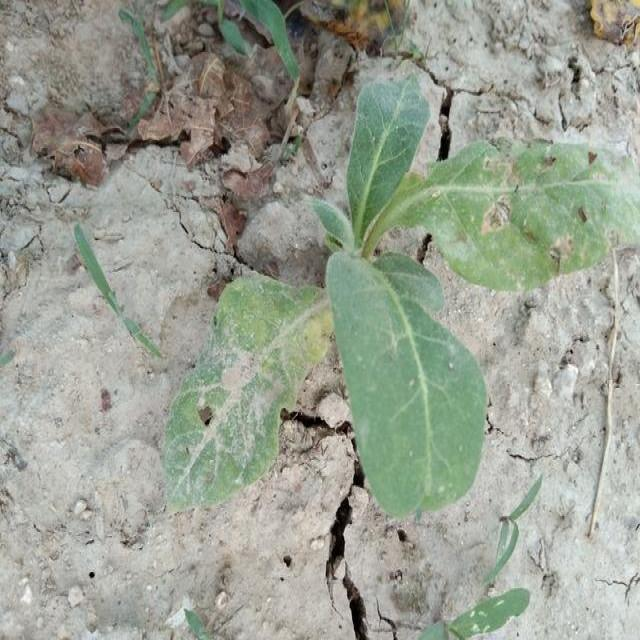crop: (146, 78, 630, 512)
